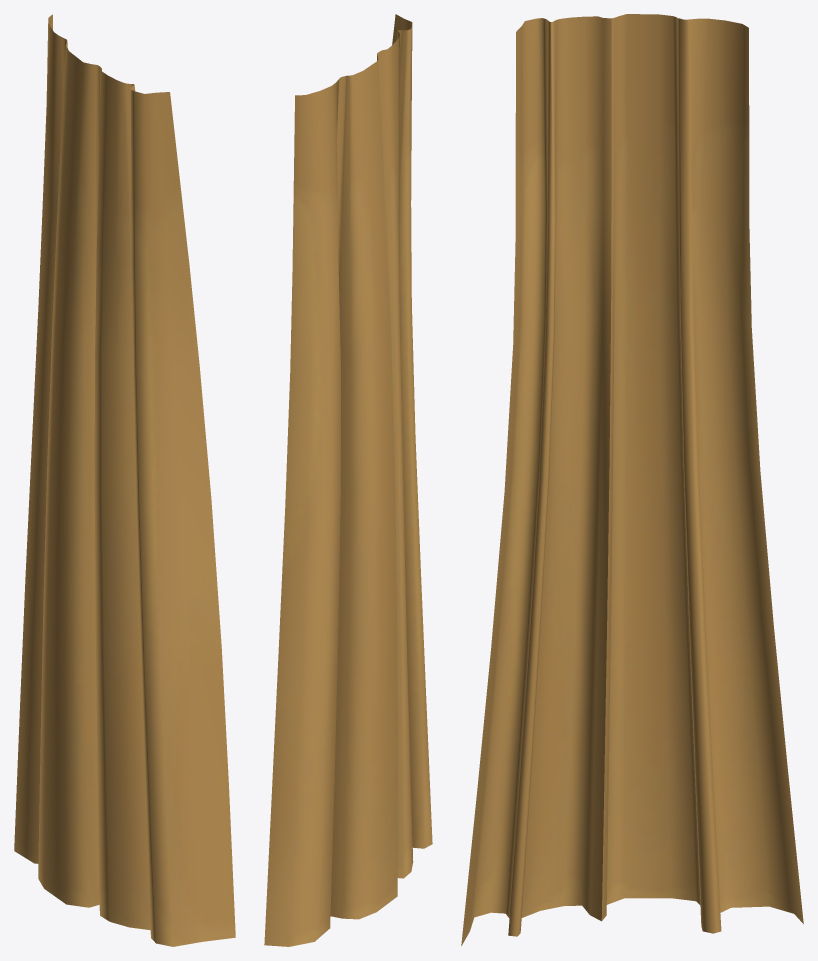
File: CurtainVertical.fbx
The picture shows the model from 3 angles, left to right: view 1: azimuth 30°, elevation 25°; view 2: azimuth 150°, elevation 25°; view 3: azimuth 270°, elevation 25°; orthographic projection. The views are drawn at different scales.
Visible parts, largest first — view 1: CurtainVertical1; view 2: CurtainVertical1; view 3: CurtainVertical1.
Boxes of the visible parts, x1=… form: CurtainVertical1: x1=14, y1=14, x2=235, y2=946; CurtainVertical1: x1=264, y1=14, x2=432, y2=946; CurtainVertical1: x1=461, y1=14, x2=803, y2=945.
Size of the model in its own units: 1.5 by 12.68 by 4.41.
